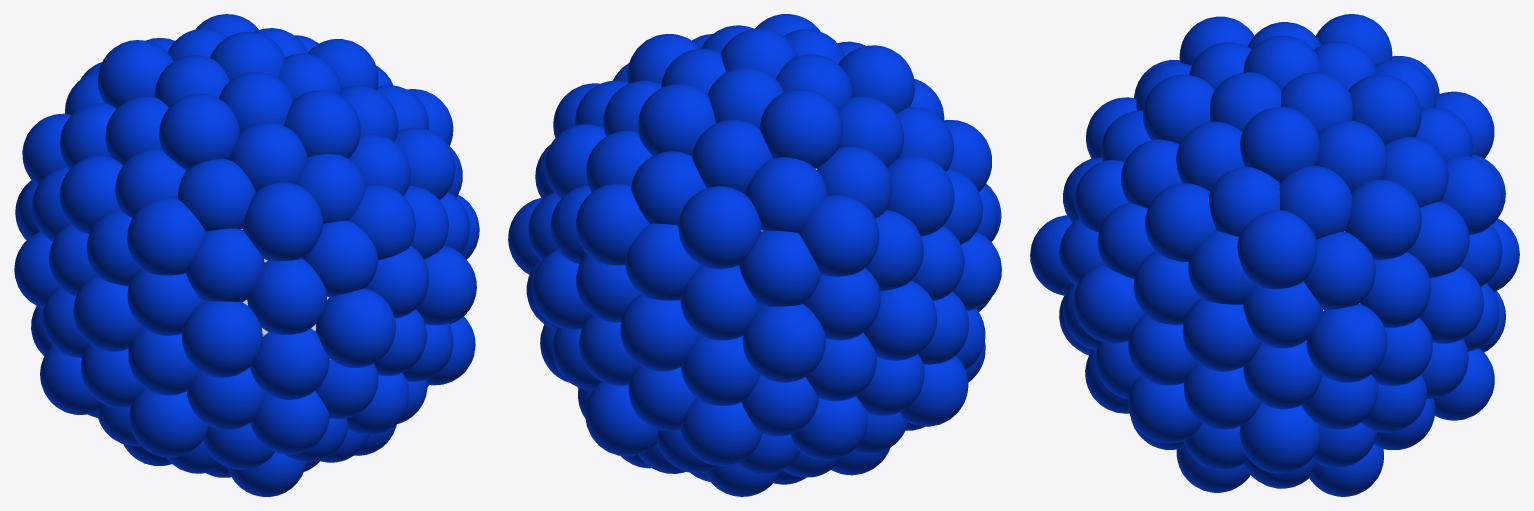
The model's file is atomeglb.glb.
The picture shows the model from 3 angles, left to right: view 1: azimuth 30°, elevation 25°; view 2: azimuth 150°, elevation 25°; view 3: azimuth 270°, elevation 25°; orthographic projection. The views are drawn at different scales.
Visible parts, largest first — view 1: Sphere (×41), Sphere.001 (×27); view 2: Sphere (×40), Sphere.001 (×26); view 3: Sphere (×38), Sphere.001 (×26).
Part boxes in pixels (x1,y1,x2,y2): Sphere (×41): [17, 28, 470, 473]; Sphere.001 (×27): [14, 14, 479, 496]; Sphere (×40): [528, 25, 998, 477]; Sphere.001 (×26): [508, 14, 1001, 496]; Sphere (×38): [1059, 22, 1502, 487]; Sphere.001 (×26): [1030, 14, 1519, 496].
Size of the model in its own units: 2.31 by 2.35 by 2.41.
